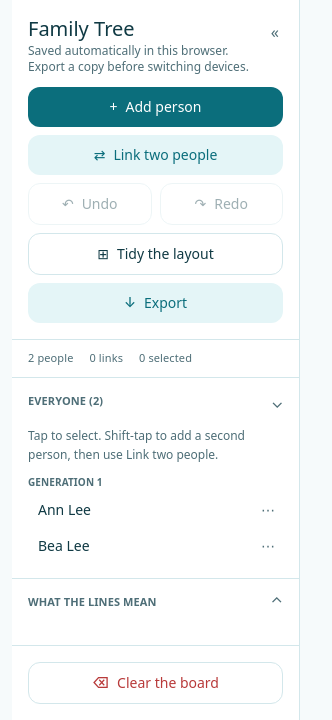
Scenario: Escape with stacked dialogs (F7) › with no dialog open, Escape still clears the selection
Click the button "Ann Lee" at x=140, y=510, box [28, 494, 251, 526]
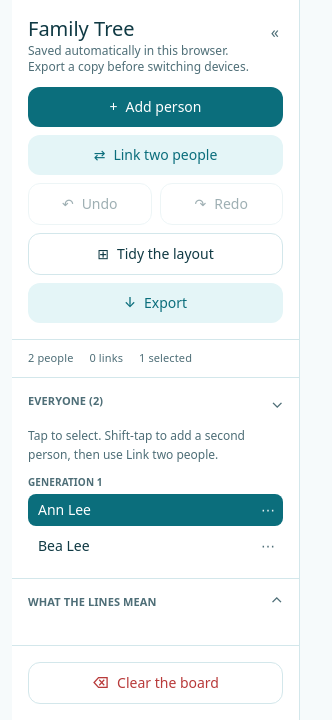
expect the text "1 selected" is shown: met, box [139, 350, 192, 366]
Press Escape
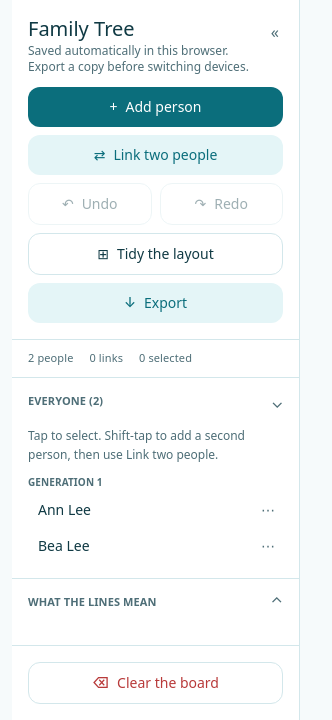
expect the text "0 selected" is shown: met, box [139, 350, 192, 366]
